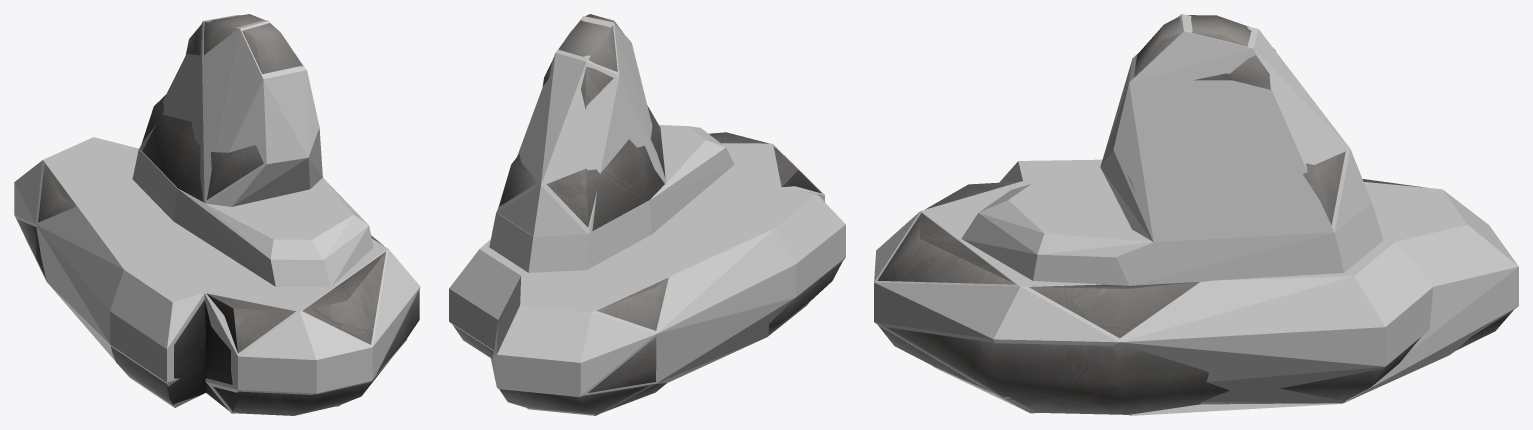
File: SM_Stones01_1.fbx
3 views of the same model, side by side, from view 1: azimuth 30°, elevation 25°; view 2: azimuth 150°, elevation 25°; view 3: azimuth 270°, elevation 25° (orthographic). The views are drawn at different scales.
Visible parts, largest first — view 1: SM_Stones01_1_ConvexHulls, SM_Stones01_1; view 2: SM_Stones01_1_ConvexHulls, SM_Stones01_1; view 3: SM_Stones01_1_ConvexHulls, SM_Stones01_1.
Part boxes in pixels (x1,y1,x2,y2): SM_Stones01_1_ConvexHulls: (14,15,420,413); SM_Stones01_1: (17,14,419,415); SM_Stones01_1_ConvexHulls: (449,16,845,415); SM_Stones01_1: (453,14,842,414); SM_Stones01_1_ConvexHulls: (874,14,1518,415); SM_Stones01_1: (877,15,1513,414).
Size of the model in its own units: 194 by 347 by 212.
2 materials, 1 textured.
